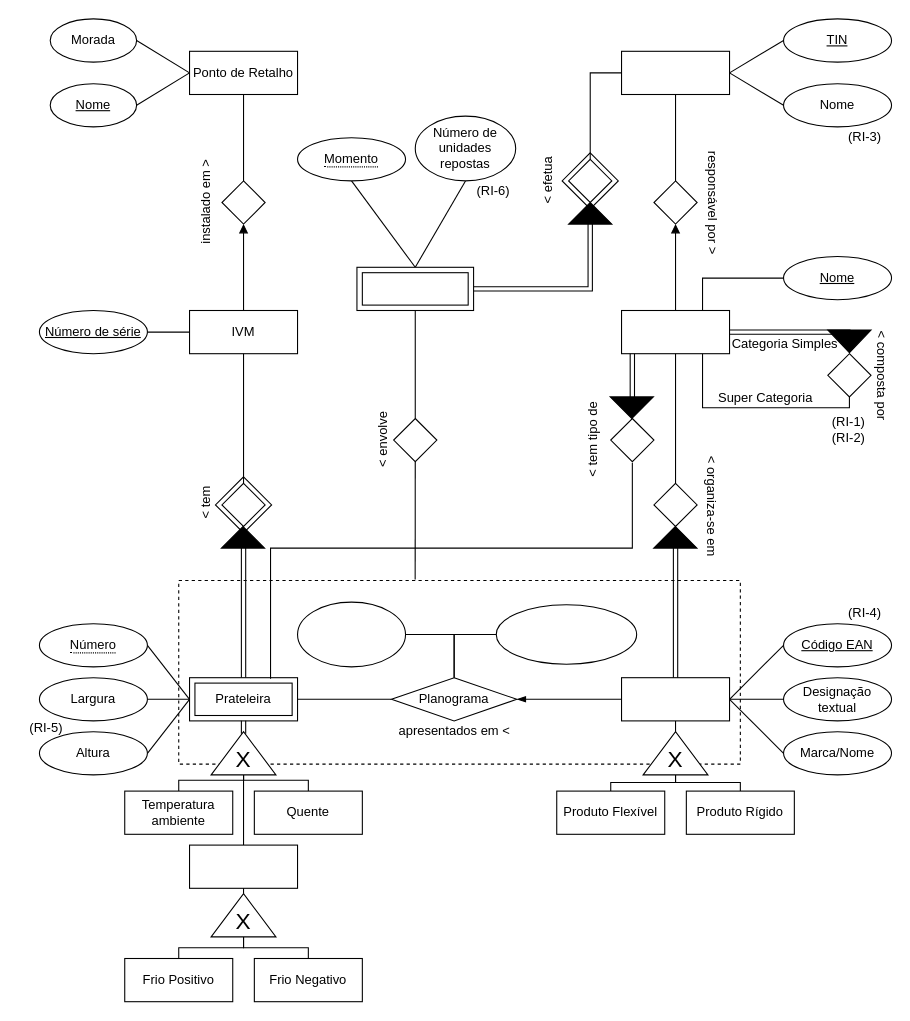
This 910x1021 diagram has some shape labels left out. The box of each missing label's shape, as (x1, y1, x2, y2) in pixels:
Categoria: (620, 309, 730, 354)
Evento de reabastecimento: (356, 266, 474, 310)
Frio: (188, 844, 298, 888)
Número de frentes visíveis do produto: (296, 601, 406, 667)
Número máximo de unidades na prateleira: (495, 604, 637, 664)
Produto: (620, 677, 730, 721)
Retalhista: (620, 50, 730, 94)
